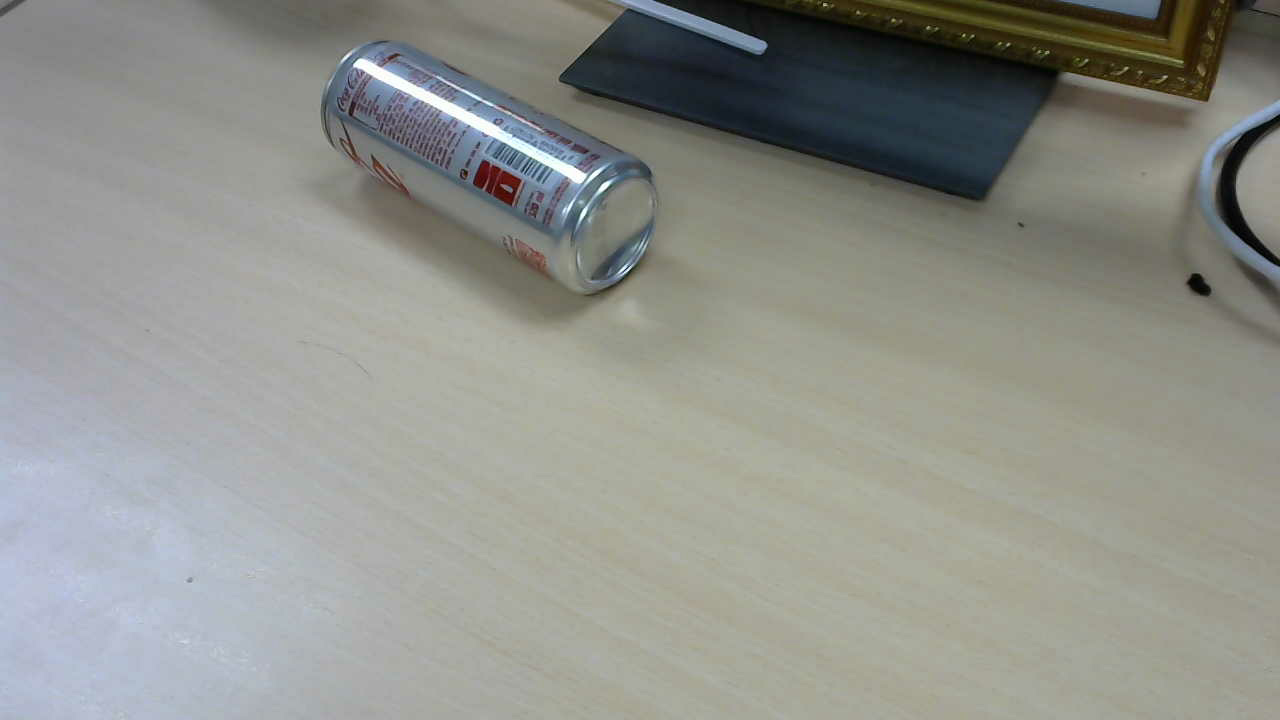Coca_Cola: (326, 43, 665, 300)
